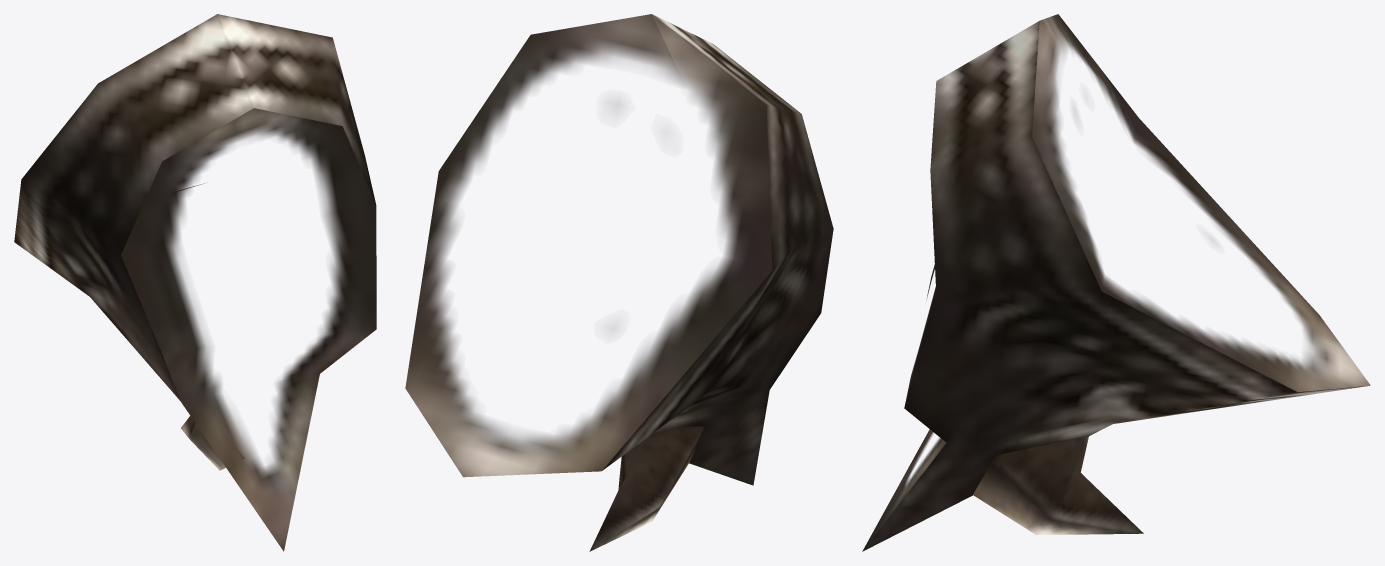
Rendered from ex01shadow_rock_7_knee_left.glb.
3 views of the same model, side by side, from view 1: azimuth 30°, elevation 25°; view 2: azimuth 150°, elevation 25°; view 3: azimuth 270°, elevation 25° (orthographic). The views are drawn at different scales.
Parts seen in each view (by area): view 1: model_ex01shadow_rock_7_knee_left; view 2: model_ex01shadow_rock_7_knee_left; view 3: model_ex01shadow_rock_7_knee_left.
Part boxes in pixels (left/top/right/bottom): model_ex01shadow_rock_7_knee_left: left=14, top=14, right=376, bottom=551; model_ex01shadow_rock_7_knee_left: left=405, top=14, right=833, bottom=551; model_ex01shadow_rock_7_knee_left: left=862, top=14, right=1370, bottom=551.
Bounding box in the file's own units: 0.2261 × 0.3268 × 0.2801.
1 material, 1 textured.
